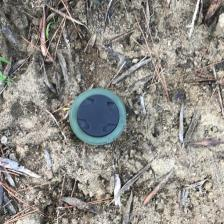M14: (69, 87, 126, 144)
